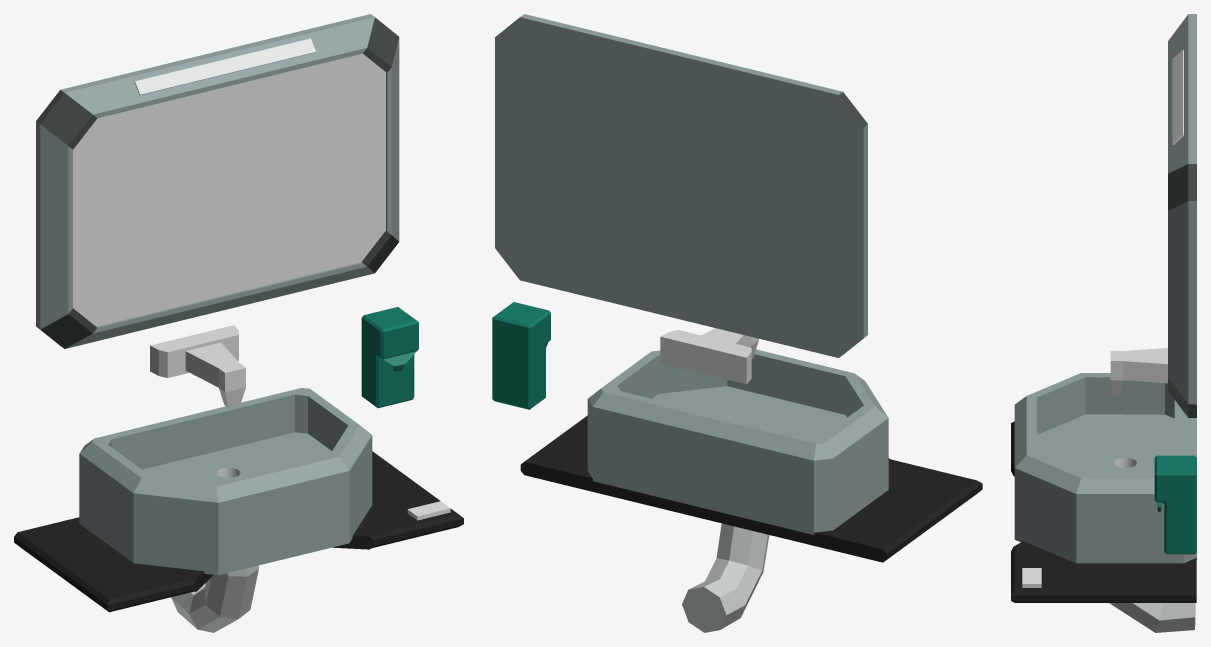
File: Sink.fbx
The picture shows the model from 3 angles, left to right: view 1: azimuth 30°, elevation 25°; view 2: azimuth 150°, elevation 25°; view 3: azimuth 270°, elevation 25°; orthographic projection. The views are drawn at different scales.
Visible parts, largest first — view 1: Mirror-2, Sink, Soap-2; view 2: Mirror-2, Sink, Soap-2; view 3: Sink, Mirror-2, Soap-2.
Part boxes in pixels (<box>): Mirror-2: <box>36,14,399,348</box>; Sink: <box>14,325,463,632</box>; Soap-2: <box>361,307,418,408</box>; Mirror-2: <box>495,14,867,357</box>; Sink: <box>520,328,982,632</box>; Soap-2: <box>492,302,550,409</box>; Sink: <box>1011,348,1196,632</box>; Mirror-2: <box>1168,14,1196,417</box>; Soap-2: <box>1154,455,1196,554</box>.
Size of the model in its own units: 1.88 by 2.61 by 0.793.
